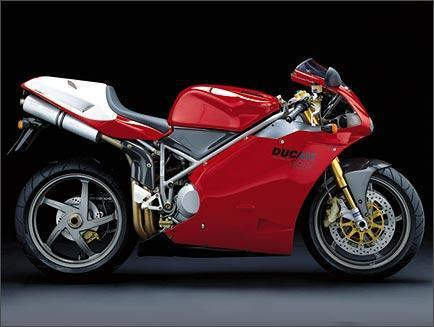motorcycle: (11, 45, 432, 289)
